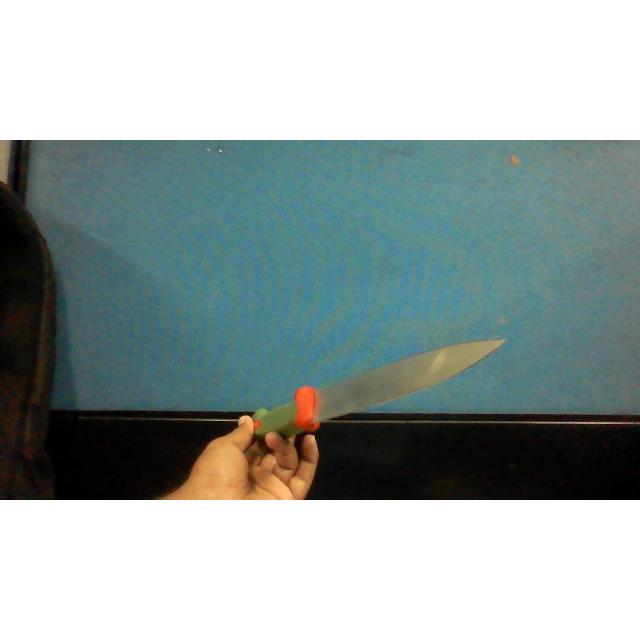Knife: (253, 340, 506, 438)
